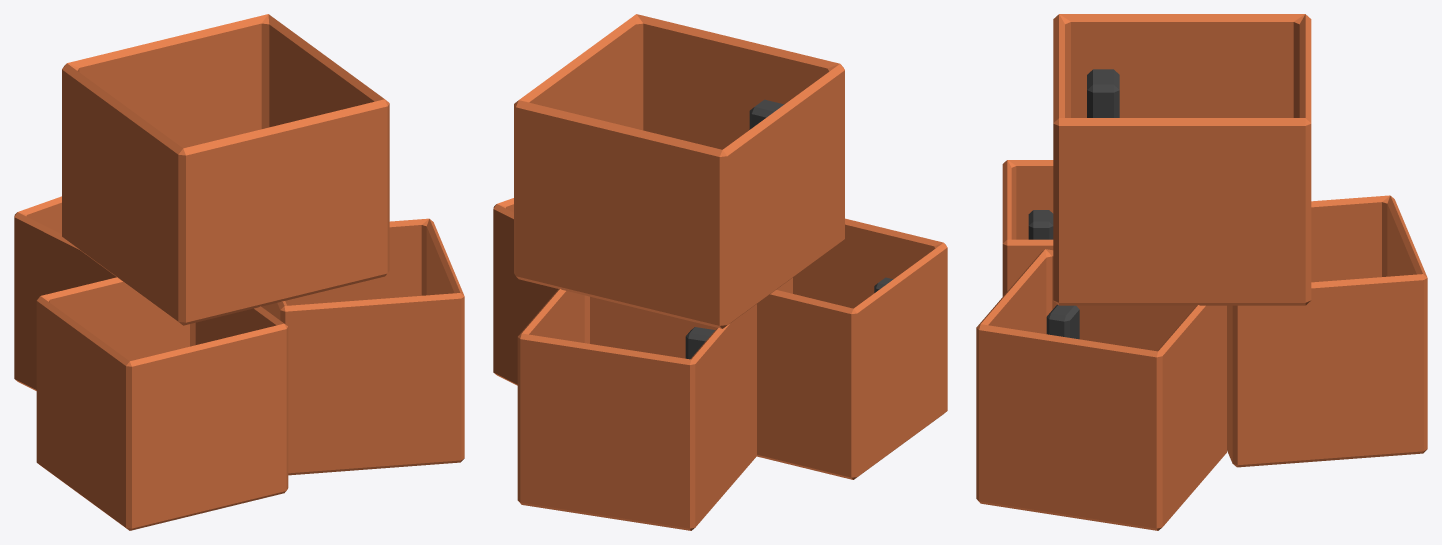
File: crates.glb
The picture shows the model from 3 angles, left to right: view 1: azimuth 30°, elevation 25°; view 2: azimuth 150°, elevation 25°; view 3: azimuth 270°, elevation 25°; orthographic projection. The views are drawn at different scales.
Visible parts, largest first — view 1: Cube.003, Cube, Cube.001, Cube.002; view 2: Cube.003, Cube.002, Cube, Cube.001; view 3: Cube.003, Cube.001, Cube.002, Cube.
Boxes of the visible parts, x1,y1,x2,y2 form: Cube.003: [62, 14, 389, 325]; Cube: [36, 277, 288, 530]; Cube.001: [262, 218, 464, 475]; Cube.002: [14, 196, 116, 390]; Cube.003: [514, 14, 844, 328]; Cube.002: [517, 289, 756, 530]; Cube: [757, 218, 947, 479]; Cube.001: [493, 198, 558, 385]; Cube.003: [1053, 14, 1311, 305]; Cube.001: [976, 249, 1226, 530]; Cube.002: [1227, 195, 1427, 467]; Cube: [1002, 160, 1053, 296].
Bounding box in the file's own units: 4.67 × 4.07 × 4.56.
